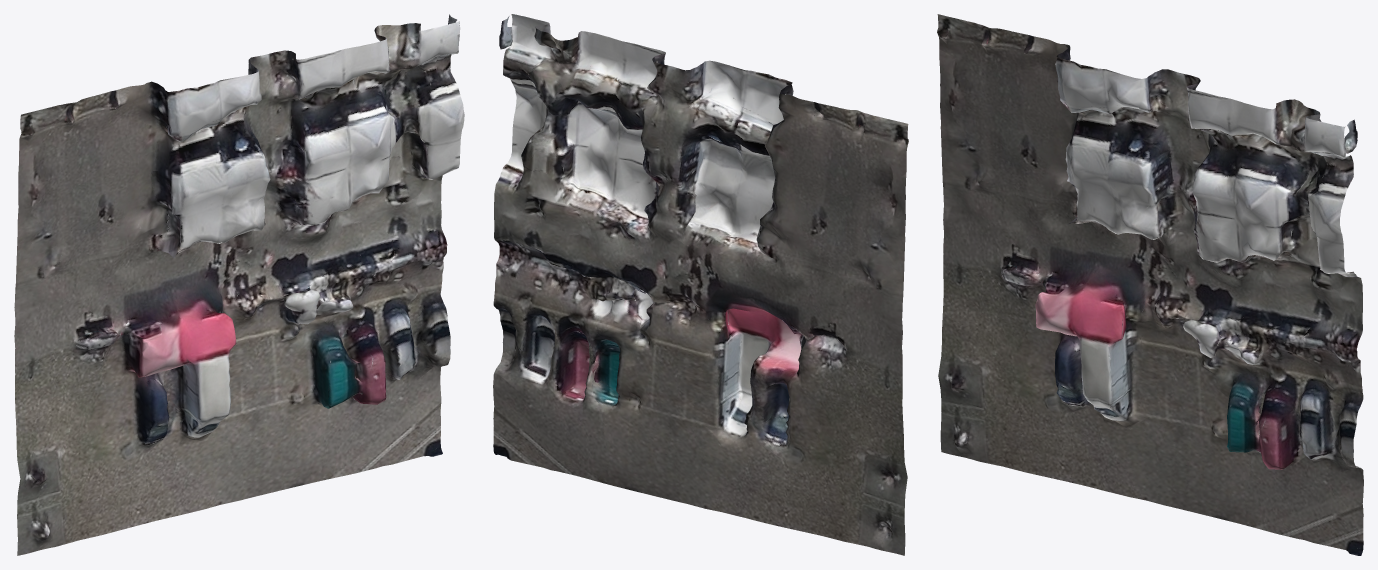
The model's file is Tile_+029_+018_L21_0033300.fbx.
The picture shows the model from 3 angles, left to right: view 1: azimuth 30°, elevation 25°; view 2: azimuth 150°, elevation 25°; view 3: azimuth 330°, elevation 25°; orthographic projection. The views are drawn at different scales.
Visible parts, largest first — view 1: DefaultName; view 2: DefaultName; view 3: DefaultName.
Part boxes in pixels (x1,y1,x2,y2): DefaultName: [14, 14, 464, 555]; DefaultName: [493, 14, 908, 555]; DefaultName: [937, 14, 1363, 555].
Size of the model in its own units: 31.31 by 31.31 by 3.74.
Materials: 1 (1 with a texture image).
